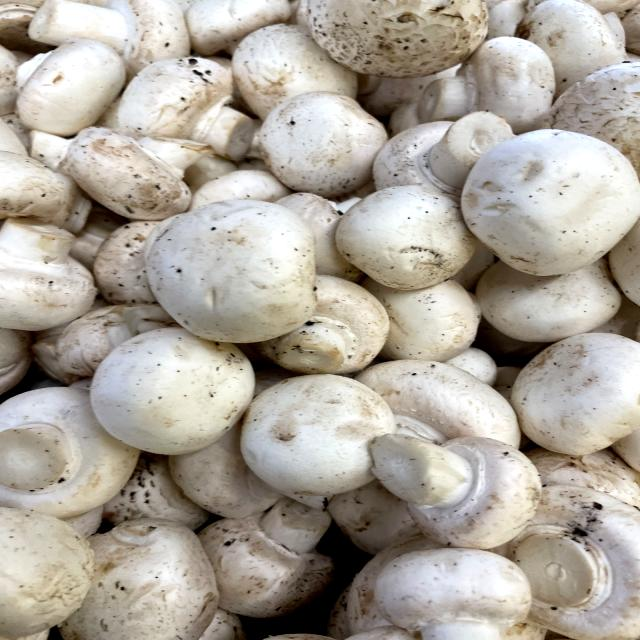mushroom: (118, 186, 346, 353), (365, 421, 551, 554), (193, 481, 351, 621), (114, 50, 278, 167)
